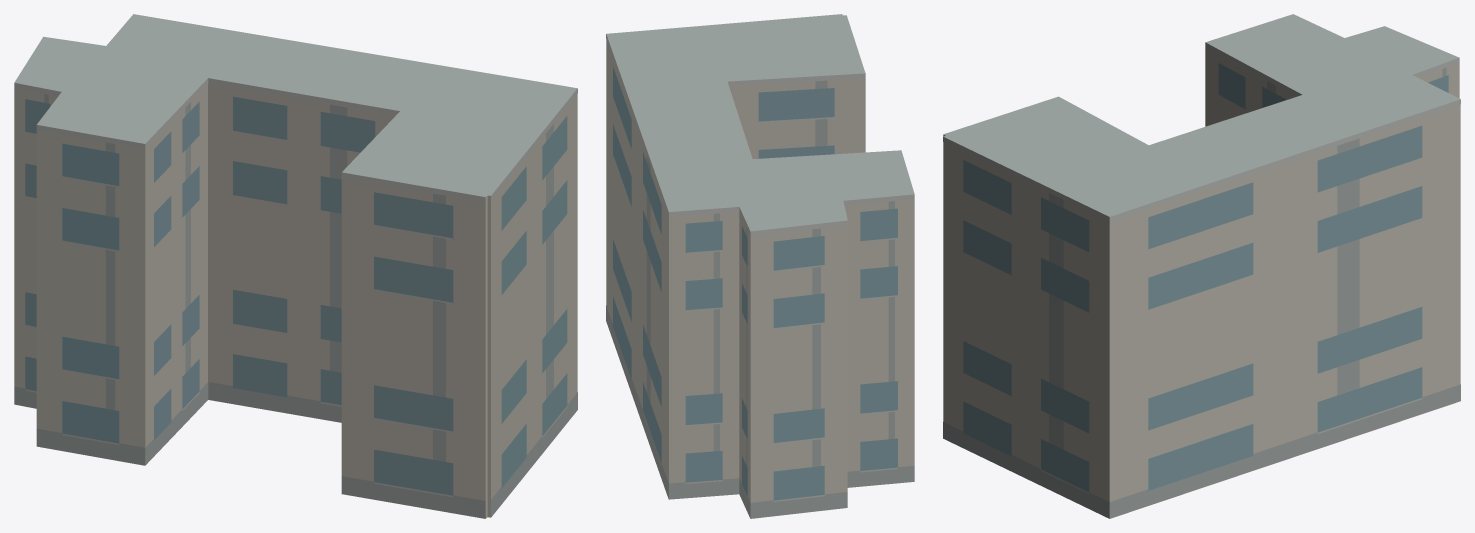
The model's file is survey-upis-33041059.glb.
The picture shows the model from 3 angles, left to right: view 1: azimuth 30°, elevation 25°; view 2: azimuth 150°, elevation 25°; view 3: azimuth 270°, elevation 25°; orthographic projection. The views are drawn at different scales.
Visible parts, largest first — view 1: survey-upis-33041059.tmp; view 2: survey-upis-33041059.tmp; view 3: survey-upis-33041059.tmp.
Boxes of the visible parts, x1,y1,x2,y2 form: survey-upis-33041059.tmp: (14, 14, 577, 518); survey-upis-33041059.tmp: (606, 14, 914, 518); survey-upis-33041059.tmp: (943, 14, 1460, 518).
Size of the model in its own units: 20.48 by 14.2 by 22.07.
